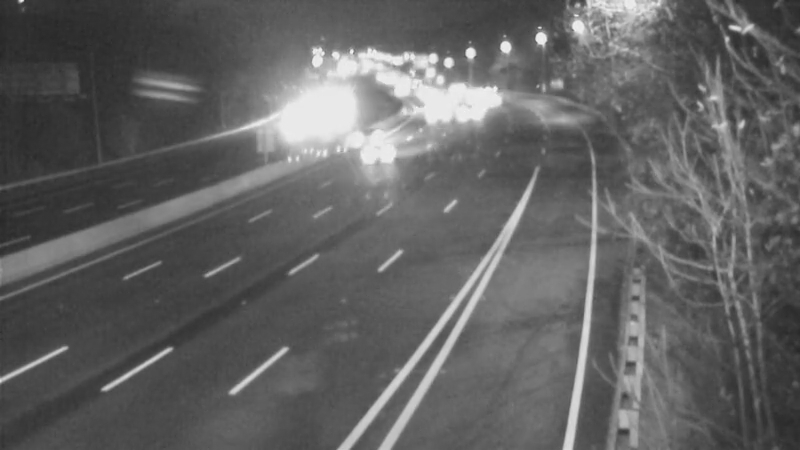vehicle: (344, 113, 424, 193), (448, 84, 498, 134), (411, 86, 461, 136), (341, 110, 391, 160)
